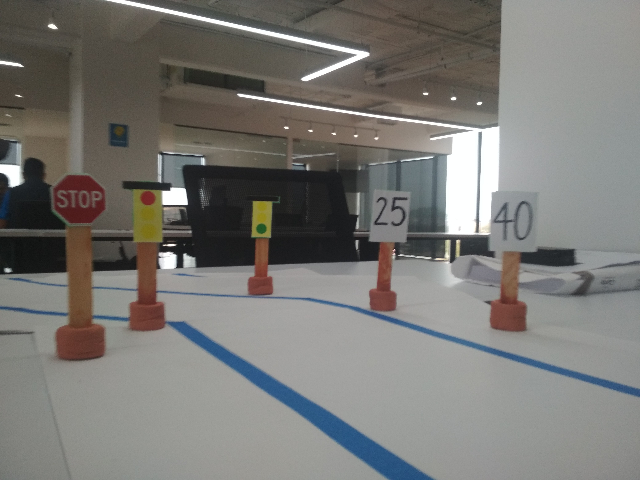Green Traffic Light: (245, 192, 281, 240)
Red Traffic Light: (120, 176, 175, 242)
Speed Limit 25: (365, 186, 412, 245)
Speed Limit 40: (487, 188, 541, 253)
Stop Sign: (50, 170, 109, 225)
